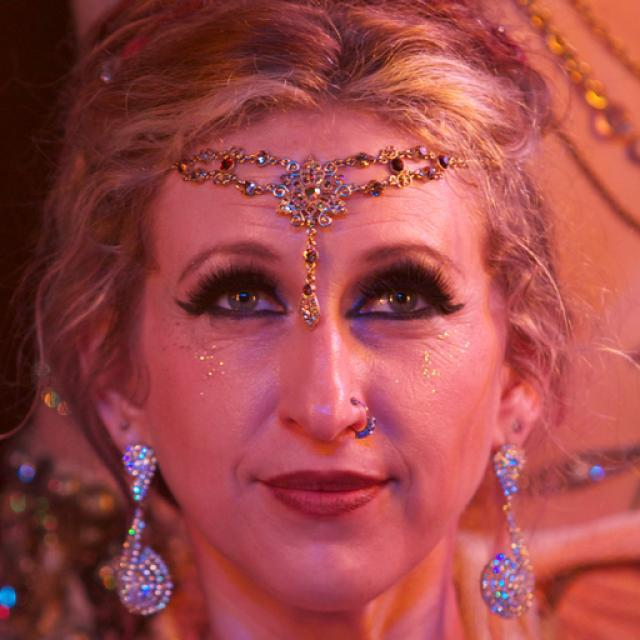disgust: (152, 112, 500, 612)
